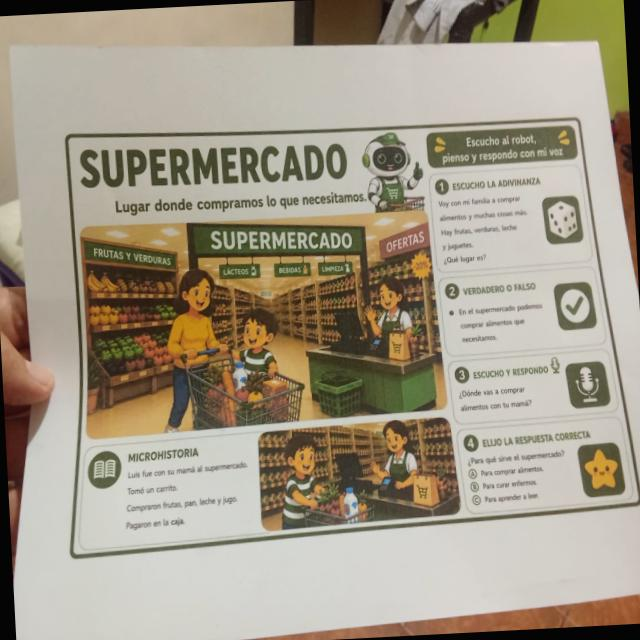supermercado: (43, 98, 640, 564)
